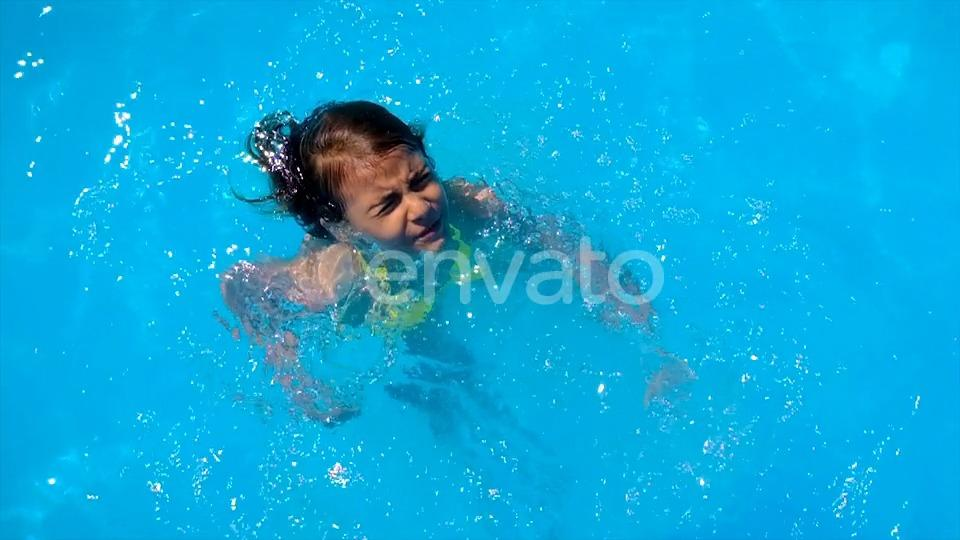Drowning: (118, 40, 837, 419)
